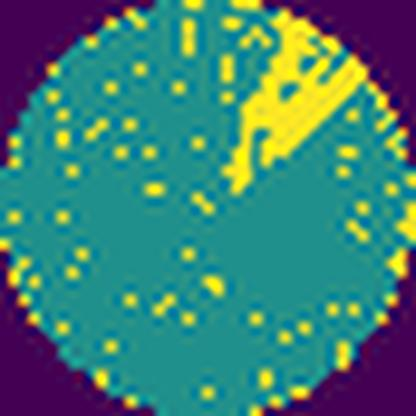Loc: (221, 10, 369, 200)
